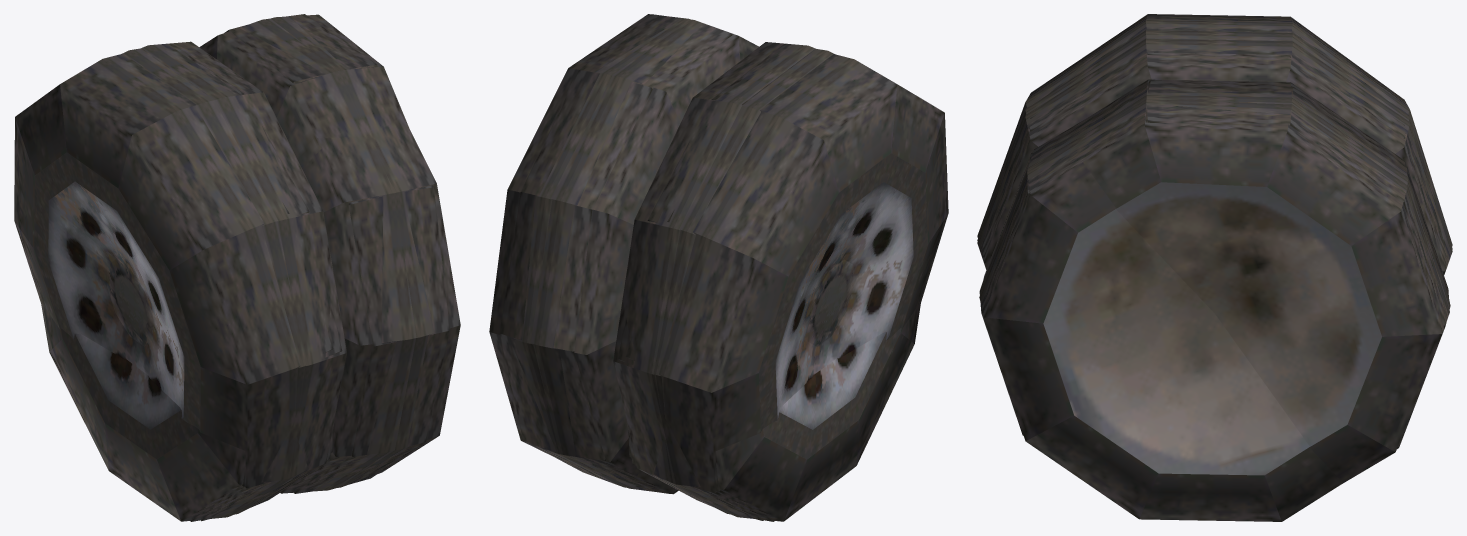
Rendered from Wheel02.fbx.
3 renders of one model, left to right at view 1: azimuth 30°, elevation 25°; view 2: azimuth 150°, elevation 25°; view 3: azimuth 270°, elevation 25°, orthographic.
Parts seen in each view (by area): view 1: WHEELL_BACK_03, WHEELL_BACK_01, WHEELL_BACK_02; view 2: WHEELL_BACK_03, WHEELL_BACK_01, WHEELL_BACK_02; view 3: WHEELL_BACK_01, WHEELL_BACK_03, WHEELL_BACK_02.
Part boxes in pixels (box(x1,y1,x2,y2)): WHEELL_BACK_03: box(14, 14, 449, 521); WHEELL_BACK_01: box(40, 14, 460, 521); WHEELL_BACK_02: box(122, 43, 342, 521); WHEELL_BACK_03: box(489, 14, 948, 520); WHEELL_BACK_01: box(499, 14, 921, 521); WHEELL_BACK_02: box(617, 43, 833, 521); WHEELL_BACK_01: box(977, 38, 1452, 521); WHEELL_BACK_03: box(977, 14, 1452, 482); WHEELL_BACK_02: box(977, 30, 1452, 265).
Bounding box in the file's own units: 0.8233 × 1.22 × 1.27.
